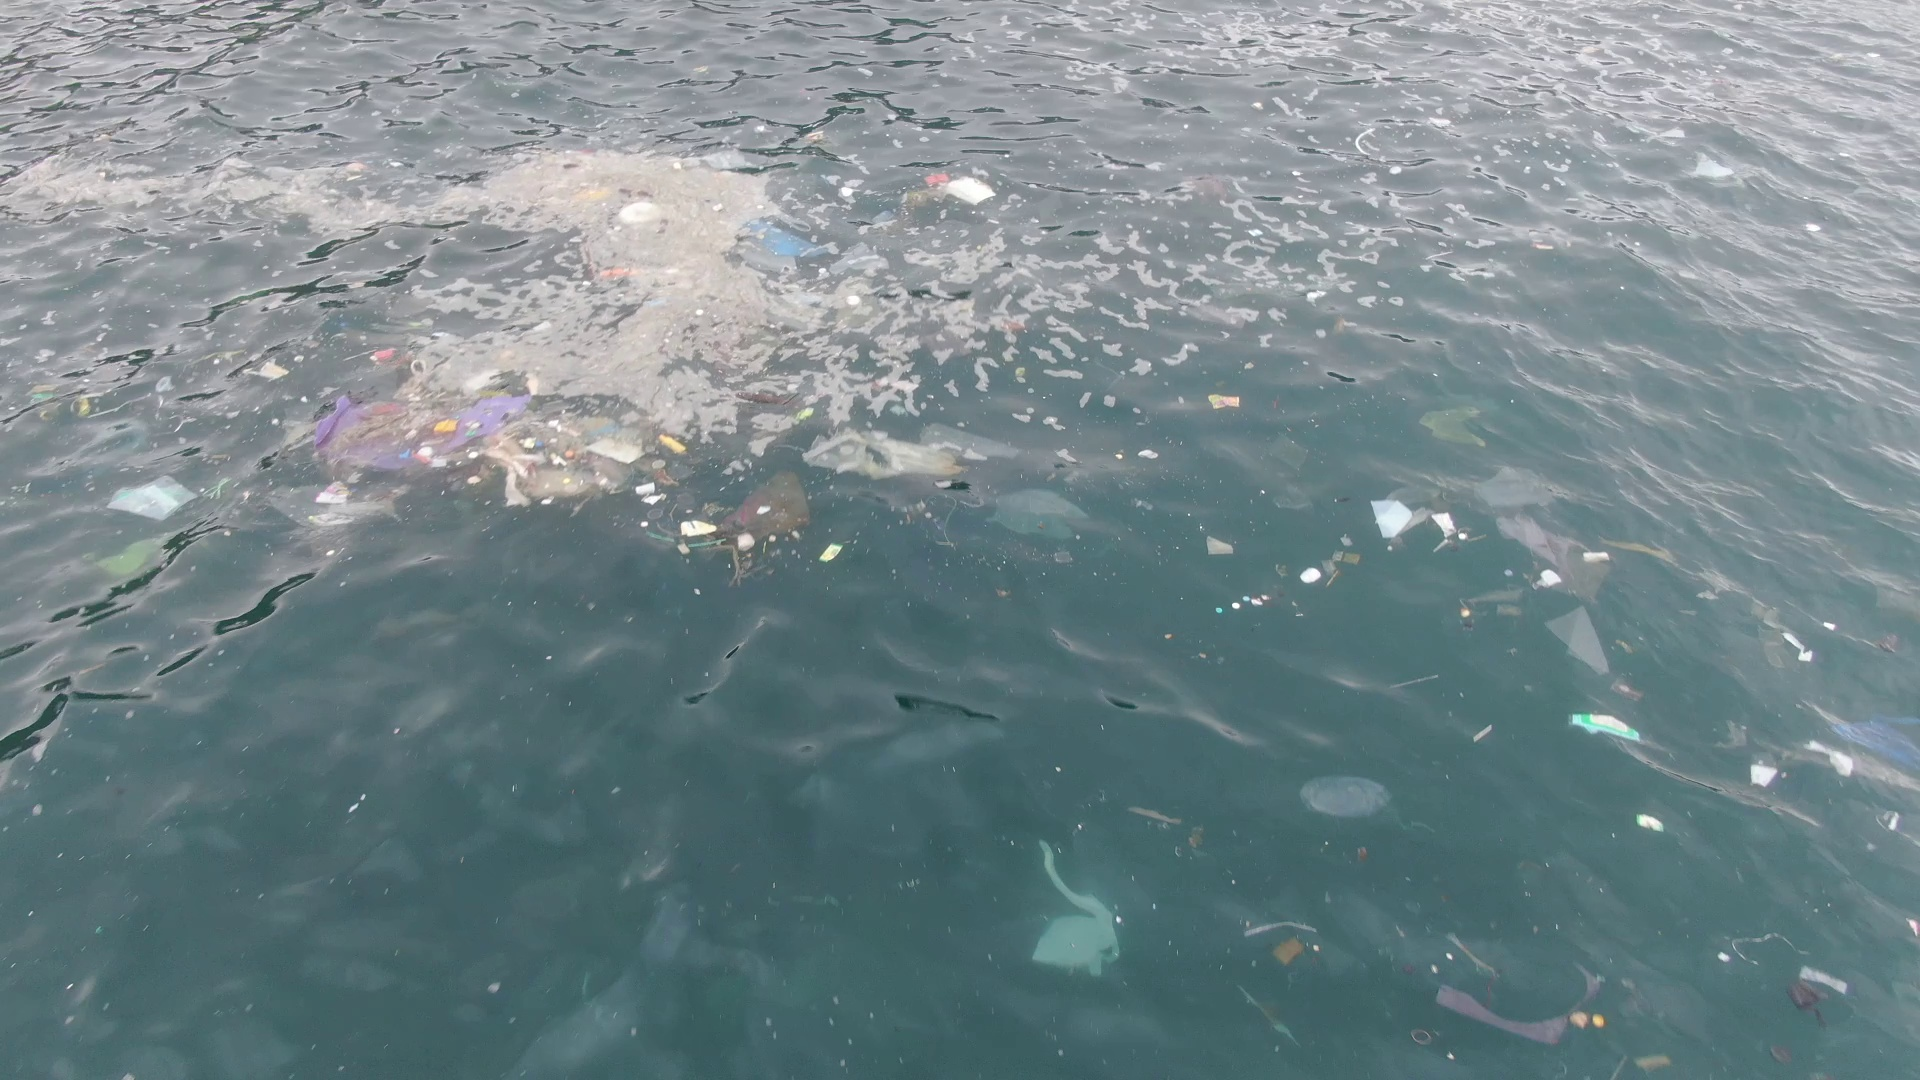garbage: (303, 347, 812, 542), (814, 419, 1087, 541), (1375, 465, 1609, 603), (1436, 935, 1609, 1047), (1029, 840, 1121, 972), (1803, 698, 1920, 785), (898, 167, 1000, 222), (1553, 608, 1611, 680), (1300, 771, 1386, 820), (116, 477, 198, 524), (1247, 920, 1317, 969), (1791, 963, 1850, 1015), (94, 541, 167, 582), (1575, 711, 1644, 745), (1299, 550, 1361, 587), (30, 382, 91, 418), (620, 199, 670, 225), (1216, 593, 1274, 615), (247, 357, 289, 381), (1695, 152, 1733, 177), (599, 265, 678, 276), (1749, 762, 1778, 787), (1207, 535, 1233, 556), (1636, 814, 1663, 832), (1209, 393, 1240, 407), (1473, 724, 1491, 742)
